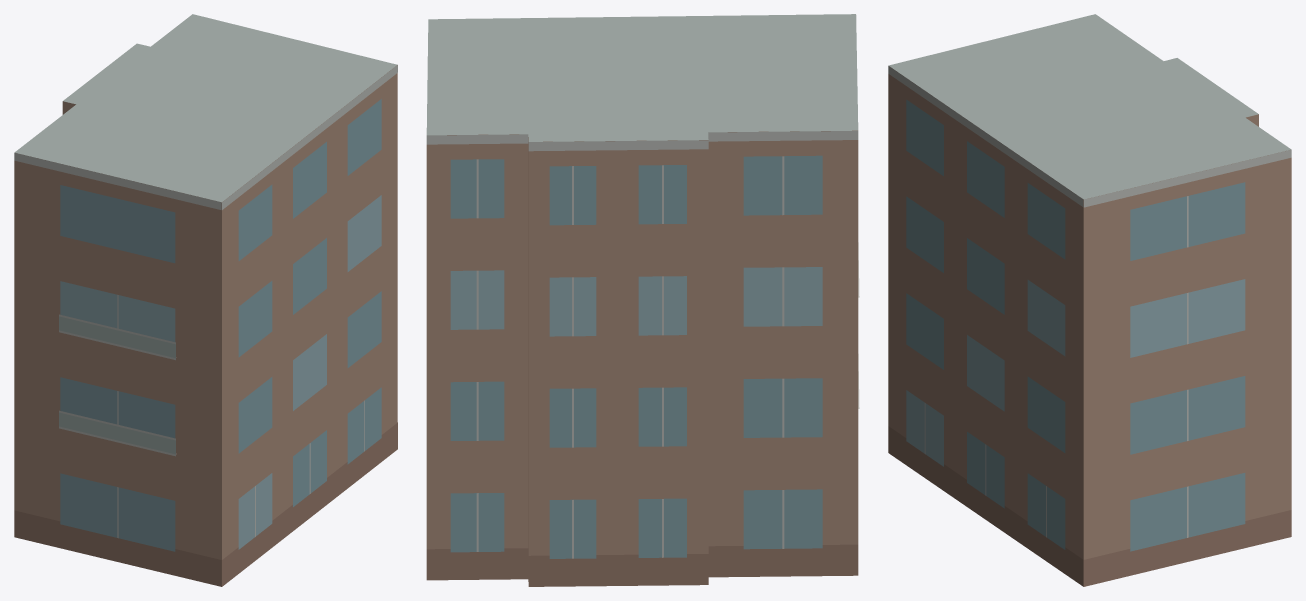
Rendered from survey-upis-32650938.glb.
The picture shows the model from 3 angles, left to right: view 1: azimuth 30°, elevation 25°; view 2: azimuth 150°, elevation 25°; view 3: azimuth 270°, elevation 25°; orthographic projection. The views are drawn at different scales.
Visible parts, largest first — view 1: survey-upis-32650938.tmp; view 2: survey-upis-32650938.tmp; view 3: survey-upis-32650938.tmp.
Boxes of the visible parts, <box> form: survey-upis-32650938.tmp: <box>14,14,397,586</box>; survey-upis-32650938.tmp: <box>426,14,859,586</box>; survey-upis-32650938.tmp: <box>888,14,1291,586</box>.
Bounding box in the file's own units: 12.03 × 11.7 × 11.05.
